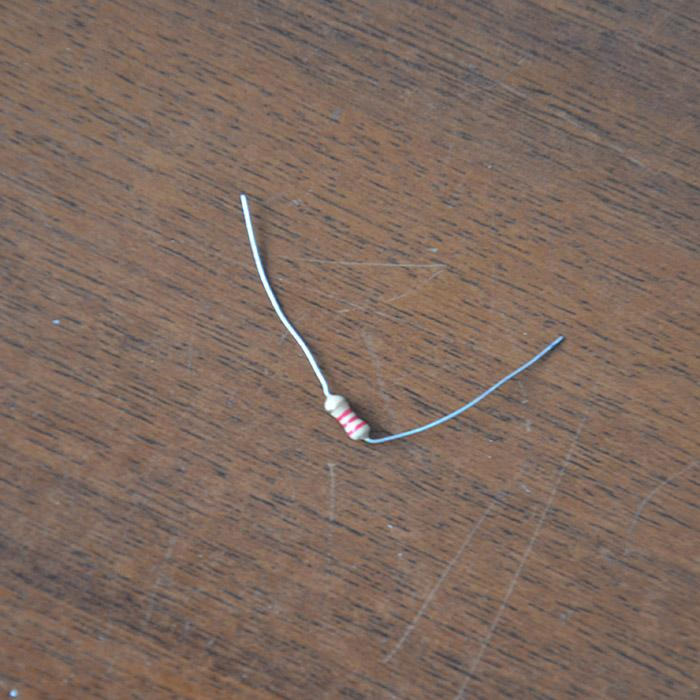resistor: (322, 392, 369, 440)
